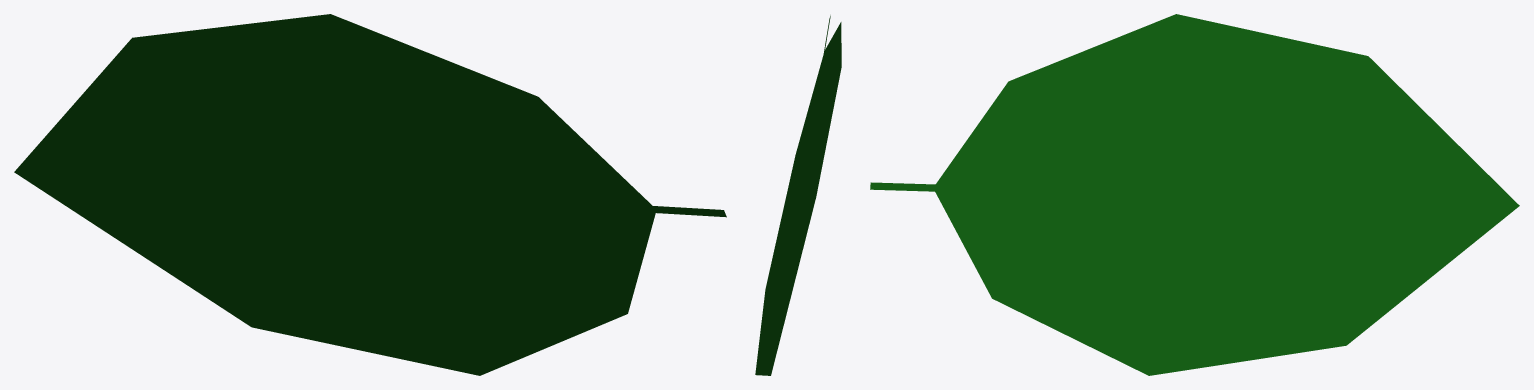
Rendered from Leaves.142.obj.
3 renders of one model, left to right at view 1: azimuth 30°, elevation 25°; view 2: azimuth 150°, elevation 25°; view 3: azimuth 270°, elevation 25°, orthographic. The views are drawn at different scales.
Parts seen in each view (by area): view 1: Leaves.142_leaves.142; view 2: Leaves.142_leaves.142; view 3: Leaves.142_leaves.142.
Boxes of the visible parts, x1=… form: Leaves.142_leaves.142: x1=14, y1=14, x2=726, y2=375; Leaves.142_leaves.142: x1=755, y1=15, x2=841, y2=375; Leaves.142_leaves.142: x1=870, y1=14, x2=1519, y2=375.
Size of the model in its own units: 0.0601 by 0.073 by 0.1337.
